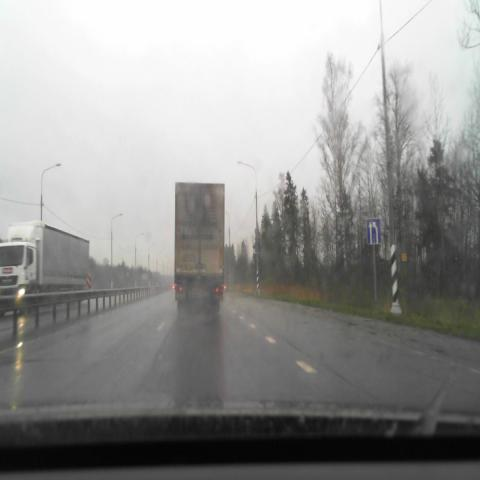5_15_5: (366, 218, 381, 245)
